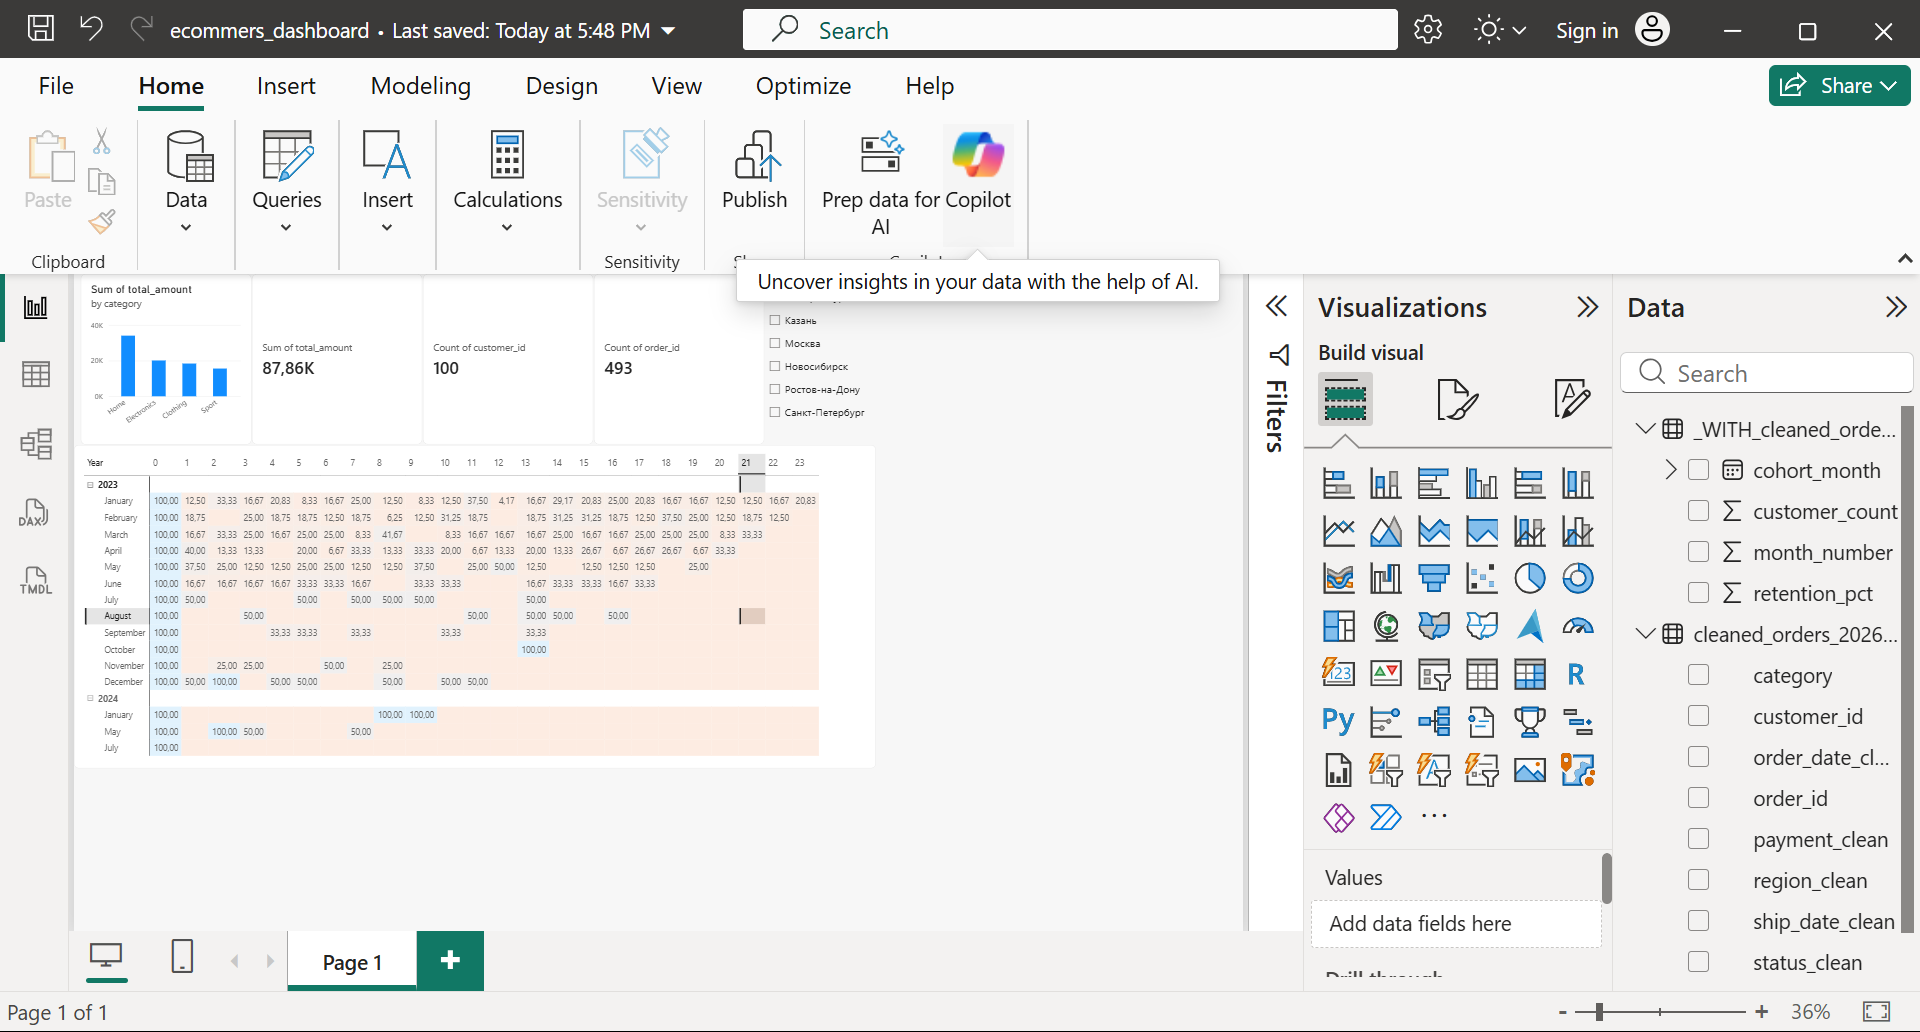

What the dashboard file says about the page in this screenshot:
{"tool":"powerbi","page":{"name":"Page 1","canvas":[1920,1080],"ordinal":0},"visuals":[{"type":"columnChart","fields":{"Category":["cleaned_orders_202611101552.category"],"Y":["Sum(cleaned_orders_202611101552.total_amount)"]},"box":[10,0,280,280],"z":0},{"type":"cardVisual","fields":{"Data":["Sum(cleaned_orders_202611101552.total_amount)"]},"box":[292.1,0,280,280],"z":1},{"type":"cardVisual","fields":{"Data":["Count(cleaned_orders_202611101552.customer_id)"]},"box":[573,0,280,280],"z":2},{"type":"cardVisual","fields":{"Data":["Count(cleaned_orders_202611101552.order_id)"]},"box":[853.8,0,280,280],"z":3},{"type":"pivotTable","fields":{"Columns":["_WITH_cleaned_orders_AS_SELECT_order_id_customer_id_CASE_WHEN_TR_202611101803.month_number"],"Rows":["_WITH_cleaned_orders_AS_SELECT_order_id_customer_id_CASE_WHEN_TR_202611101803.cohort_month.Variation.Date Hierarchy.Year","_WITH_cleaned_orders_AS_SELECT_order_id_customer_id_CASE_WHEN_TR_202611101803.cohort_month.Variation.Date Hierarchy.Mont"],"Values":["Avg(_WITH_cleaned_orders_AS_SELECT_order_id_customer_id_CASE_WHEN_TR_202611101803.retention_pct)"]},"box":[0,280.9,1317.2,530.8],"z":4},{"type":"slicer","fields":{"Values":["cleaned_orders_202611101552.region_clean"]},"box":[1134.7,0,182.6,275.2],"z":5}]}

Visuals, with their boxes on the page's 1920x1080 design canvas (x1, y1, x2, y2). These are canvas units, not pixel positions in the 1920x1032 screenshot, which may show the page scaled, cropped or inside an application window:
columnChart - cleaned_orders_202611101552.category x Sum(cleaned_orders_202611101552.total_amount): [left=10, top=0, right=290, bottom=280]
cardVisual - Sum(cleaned_orders_202611101552.total_amount): [left=292, top=0, right=572, bottom=280]
cardVisual - Count(cleaned_orders_202611101552.customer_id): [left=573, top=0, right=853, bottom=280]
cardVisual - Count(cleaned_orders_202611101552.order_id): [left=854, top=0, right=1134, bottom=280]
pivotTable - _WITH_cleaned_orders_AS_SELECT_order_id_customer_id_CASE_WHEN_TR_202611101803.month_number x _WITH_cleaned_orders_AS_SELECT_order_id_customer_id_CASE_WHEN_TR_202611101803.cohort_month.Variation.Date Hierarchy.Year: [left=0, top=281, right=1317, bottom=812]
slicer - cleaned_orders_202611101552.region_clean: [left=1135, top=0, right=1317, bottom=275]
